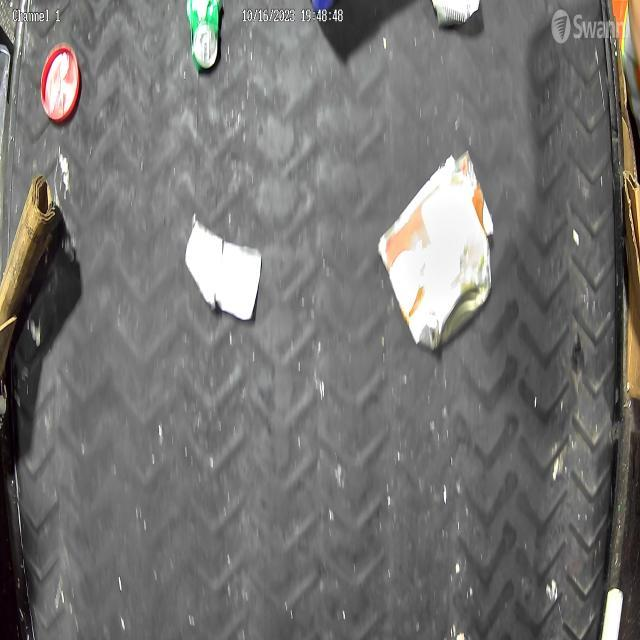can: (185, 0, 222, 73)
